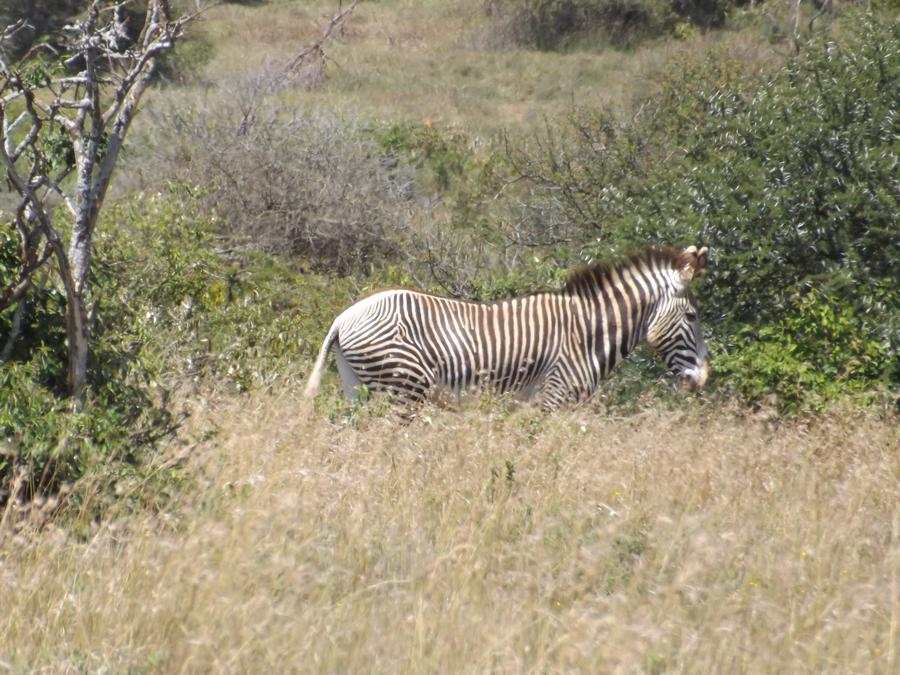zebra_grevys: (324, 268, 600, 408)
